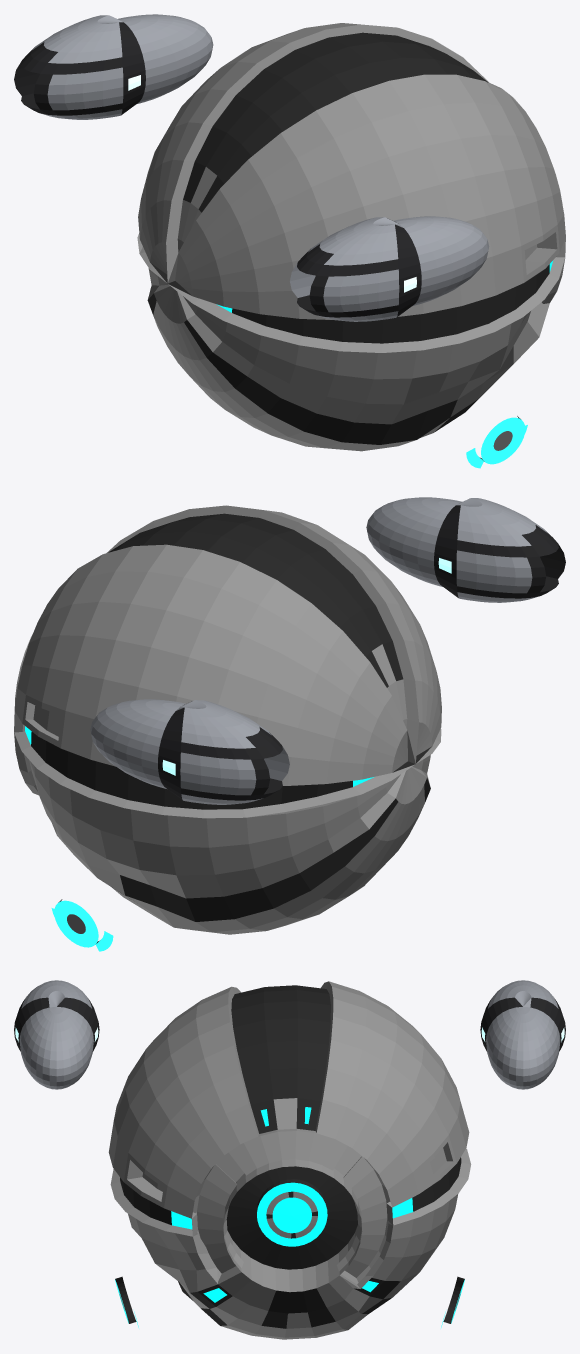
Rendered from drone.fbx.
3 views of the same model, one above another, from view 1: azimuth 30°, elevation 25°; view 2: azimuth 150°, elevation 25°; view 3: azimuth 270°, elevation 25° (orthographic). The views are drawn at different scales.
Parts seen in each view (by area): view 1: 球, 円; view 2: 球, 円; view 3: 球, 円.
Part boxes in pixels (x1,y1,x2,y2): 球: (137, 23, 565, 451); 円: (14, 14, 527, 468); 球: (14, 505, 441, 934); 円: (51, 497, 565, 951); 球: (108, 981, 471, 1339); 円: (14, 980, 565, 1327).
Bounding box in the file's own units: 195 × 197 × 304.
